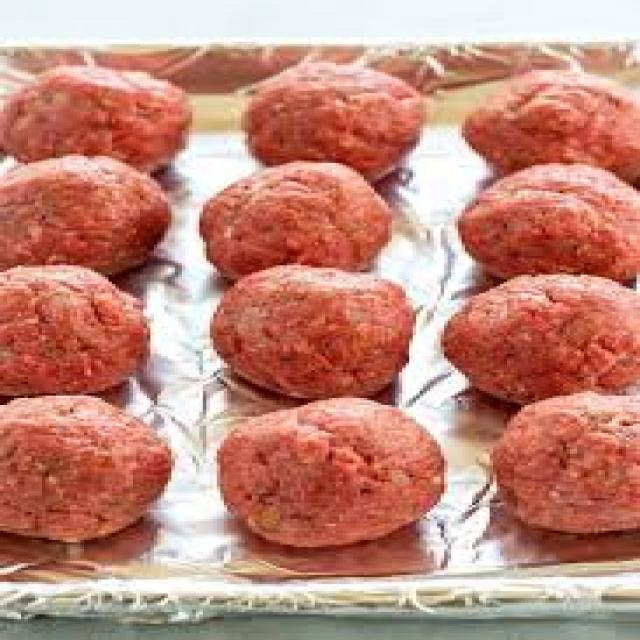meatball: (201, 393, 467, 553), (185, 262, 438, 396), (426, 269, 640, 407), (0, 386, 178, 546), (201, 54, 438, 174), (182, 159, 406, 278), (440, 158, 640, 283), (475, 388, 640, 535), (0, 255, 166, 396), (0, 62, 206, 174), (449, 64, 640, 177), (0, 149, 178, 270)
